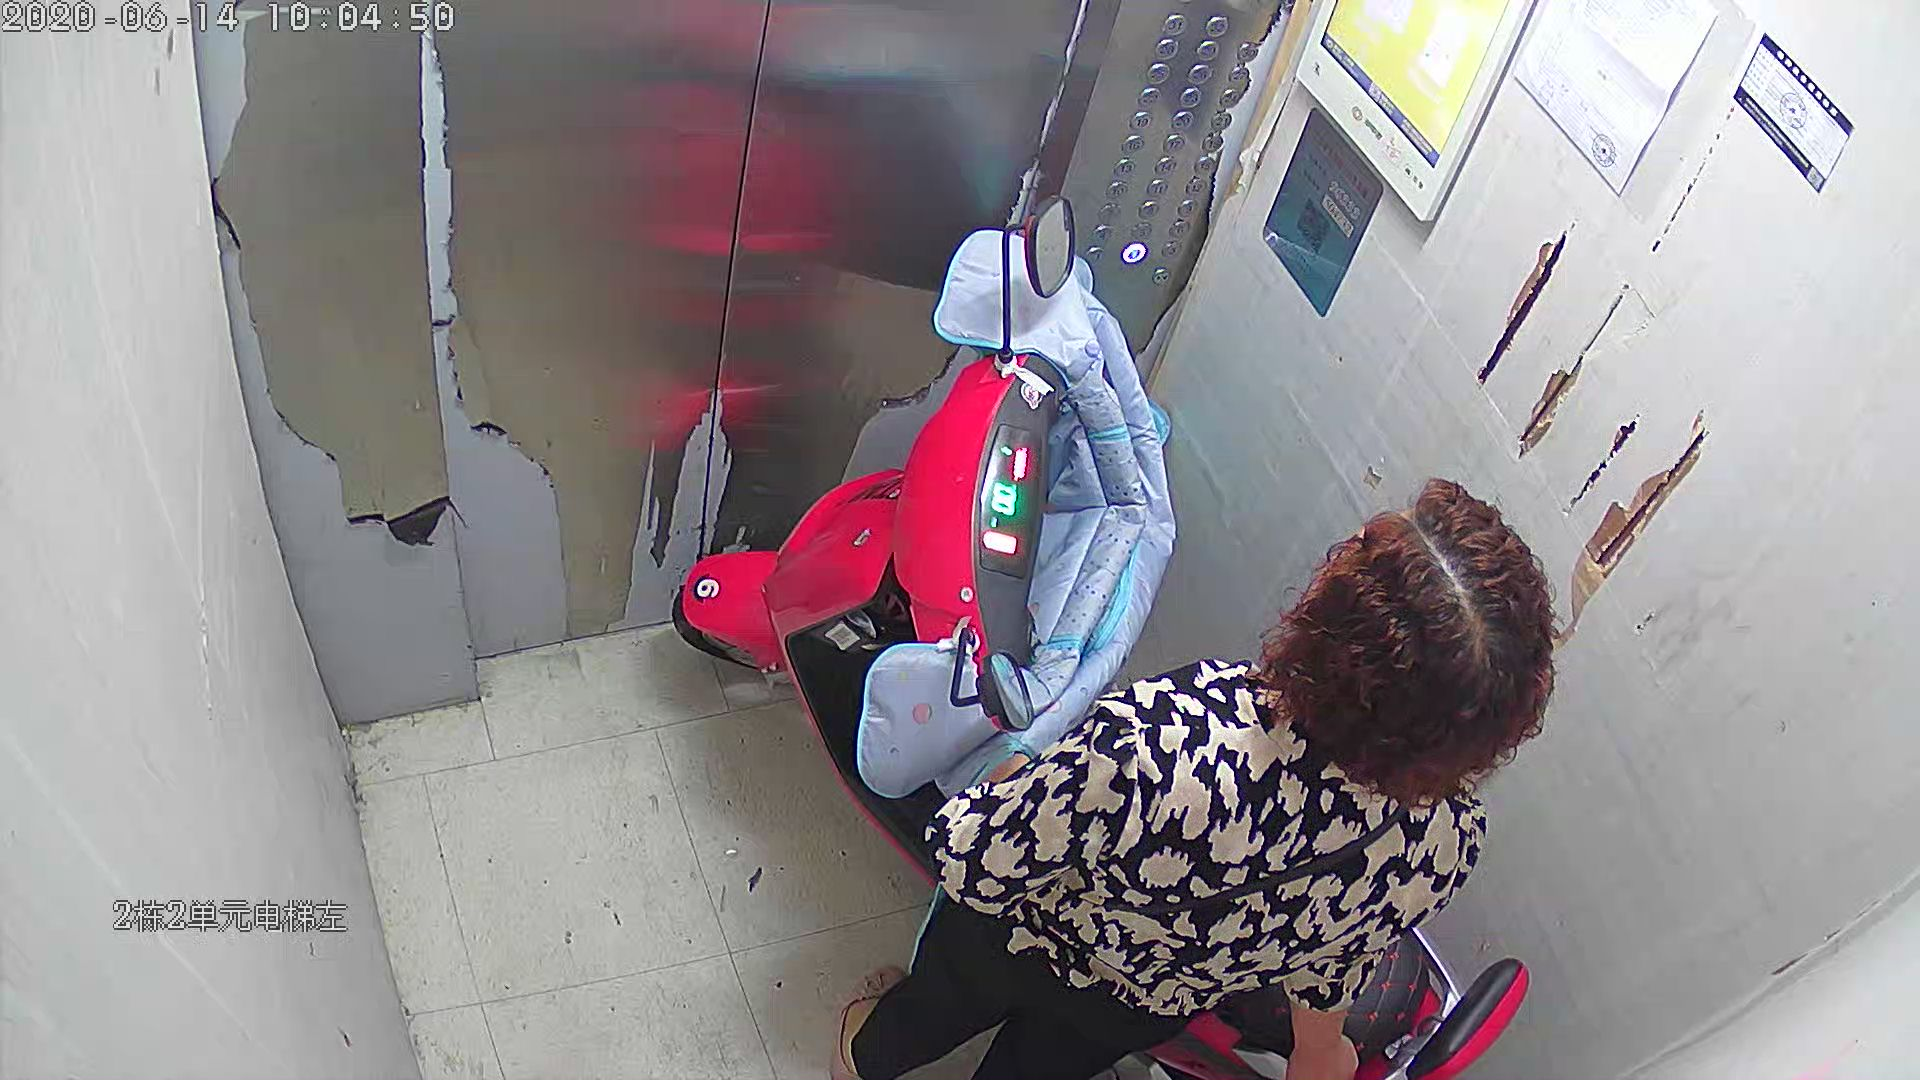Electric-bicycle: (676, 203, 1524, 1077)
